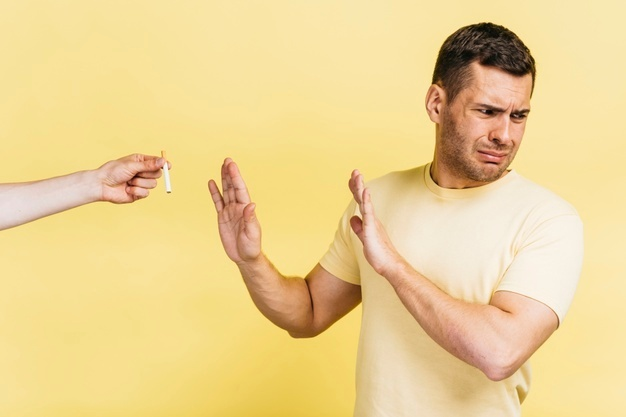sigaretta: (157, 146, 176, 199)
